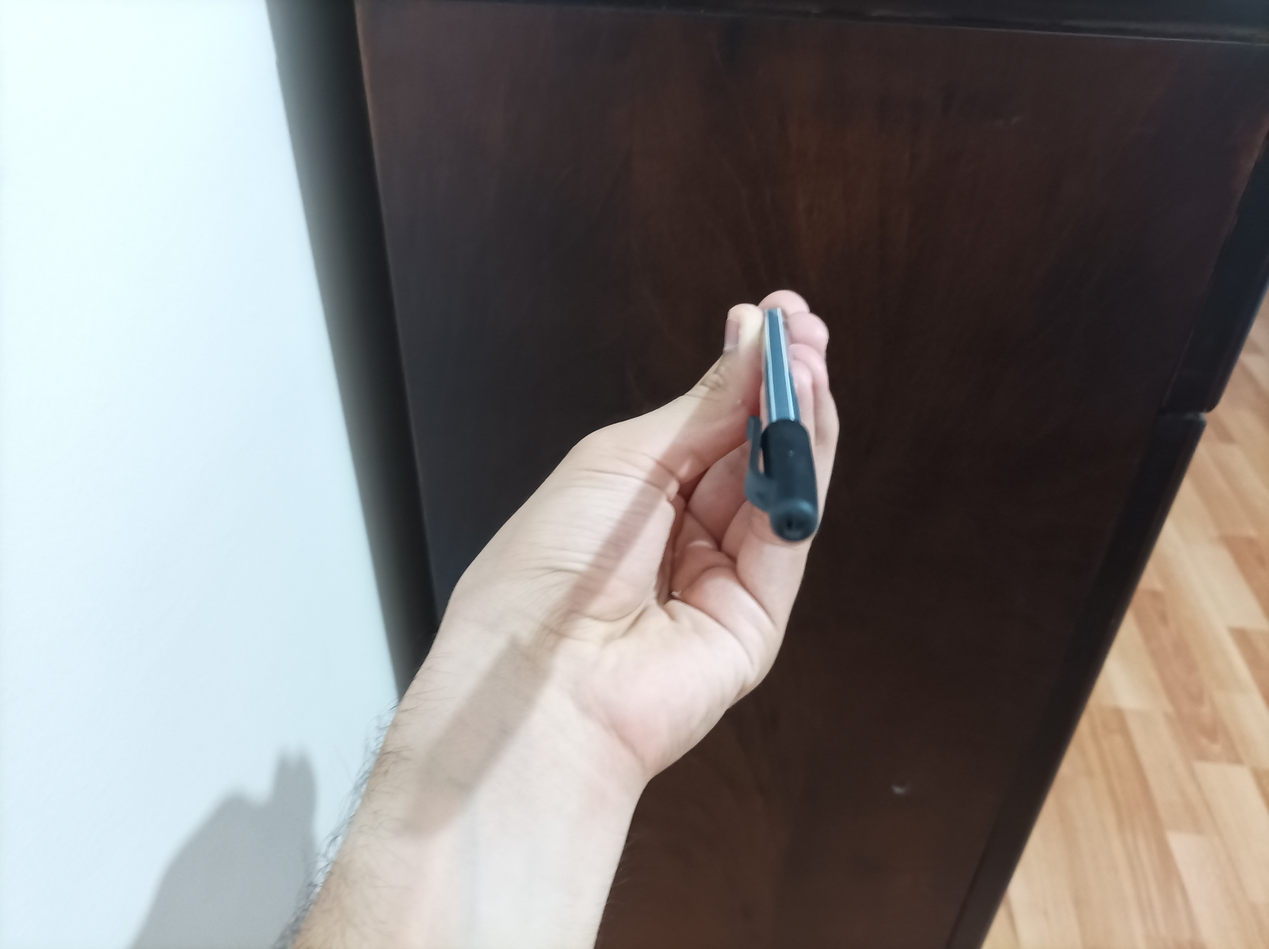plastic: (752, 304, 825, 549)
